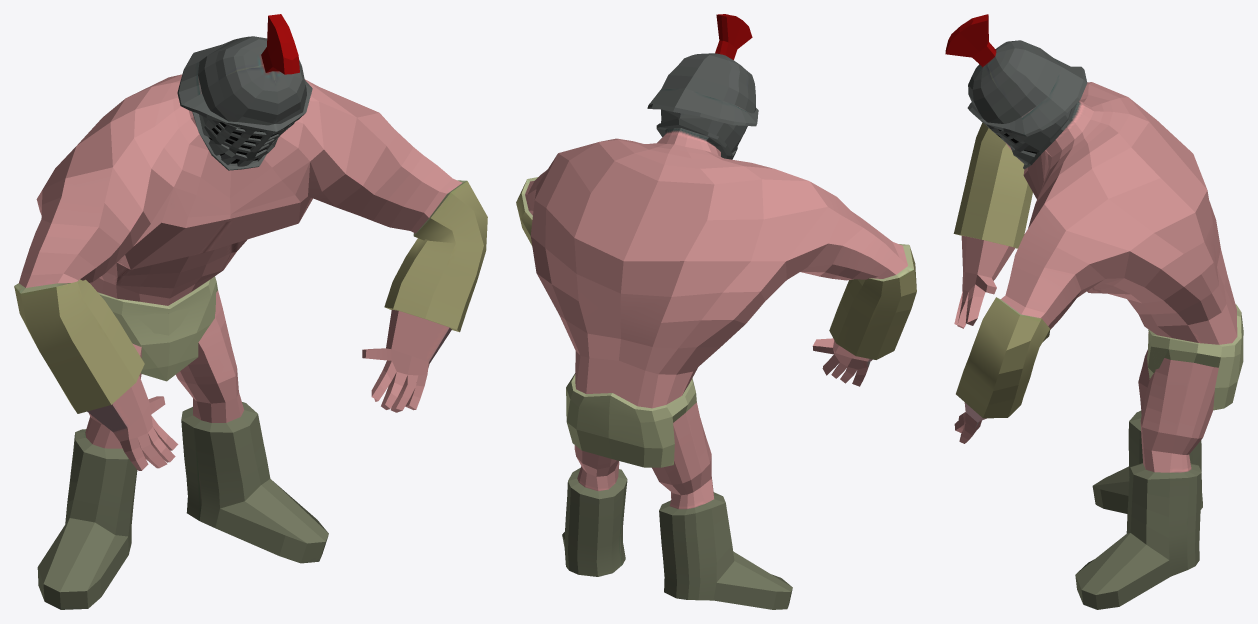
File: GladiatorCelebracion_000459.obj
3 renders of one model, left to right at view 1: azimuth 30°, elevation 25°; view 2: azimuth 150°, elevation 25°; view 3: azimuth 270°, elevation 25°, orthographic. The views are drawn at different scales.
Parts seen in each view (by area): view 1: Gadiador_Gladiador_H; view 2: Gadiador_Gladiador_H; view 3: Gadiador_Gladiador_H.
Part boxes in pixels (x1=…): Gadiador_Gladiador_H: x1=14, y1=14, x2=487, y2=609; Gadiador_Gladiador_H: x1=516, y1=14, x2=916, y2=609; Gadiador_Gladiador_H: x1=945, y1=14, x2=1243, y2=609.
Bounding box in the file's own units: 5.29 × 6.66 × 3.29.
Materials: 1 (1 with a texture image).
